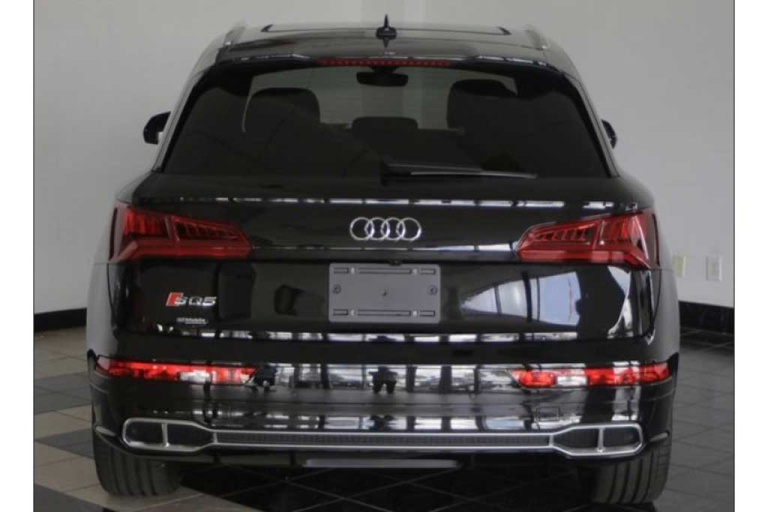audi: (338, 205, 438, 245)
